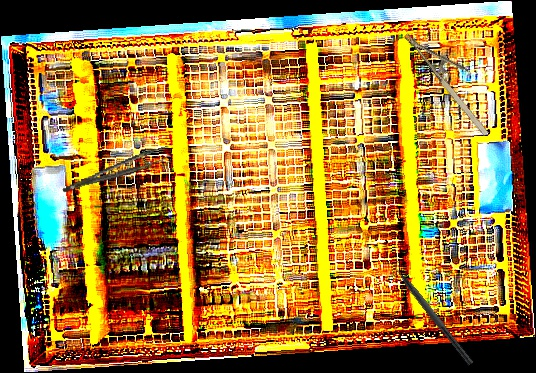Chopper: (386, 254, 481, 366)
Needle Holder: (403, 17, 506, 139)
Tissue Forceps: (58, 145, 174, 193)
